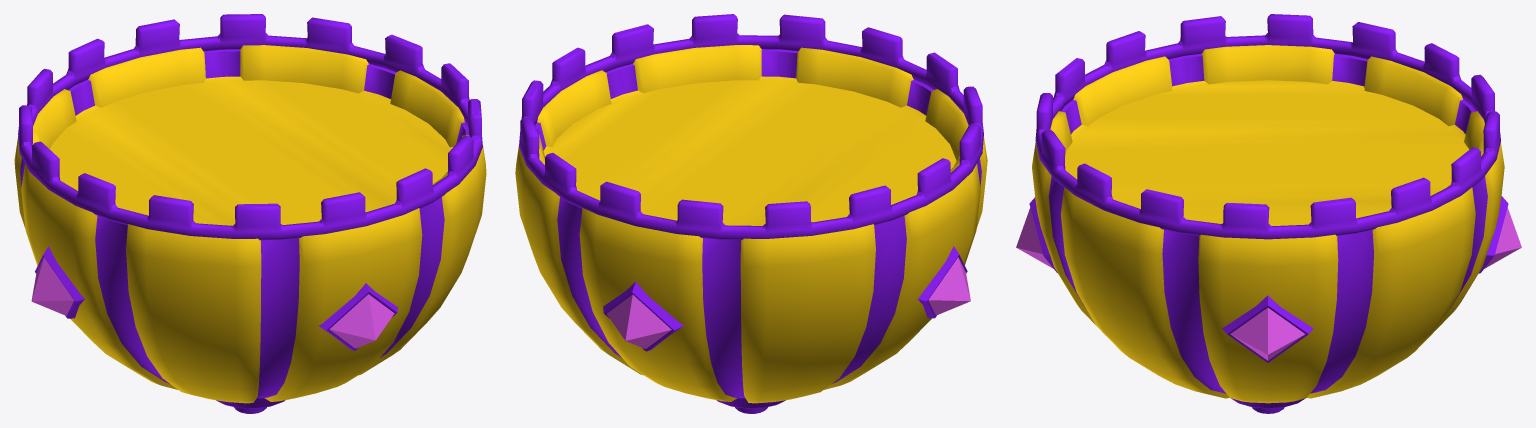
File: Balcony.fbx
3 views of the same model, side by side, from view 1: azimuth 30°, elevation 25°; view 2: azimuth 150°, elevation 25°; view 3: azimuth 270°, elevation 25° (orthographic).
Parts seen in each view (by area): view 1: Balcony_LOD0; view 2: Balcony_LOD0; view 3: Balcony_LOD0.
Part boxes in pixels (left/top/right/bottom): Balcony_LOD0: left=14, top=14, right=486, bottom=413; Balcony_LOD0: left=515, top=14, right=987, bottom=413; Balcony_LOD0: left=1016, top=14, right=1521, bottom=413.
Size of what is drawn, in the model's own units: 504 by 328 by 504.
